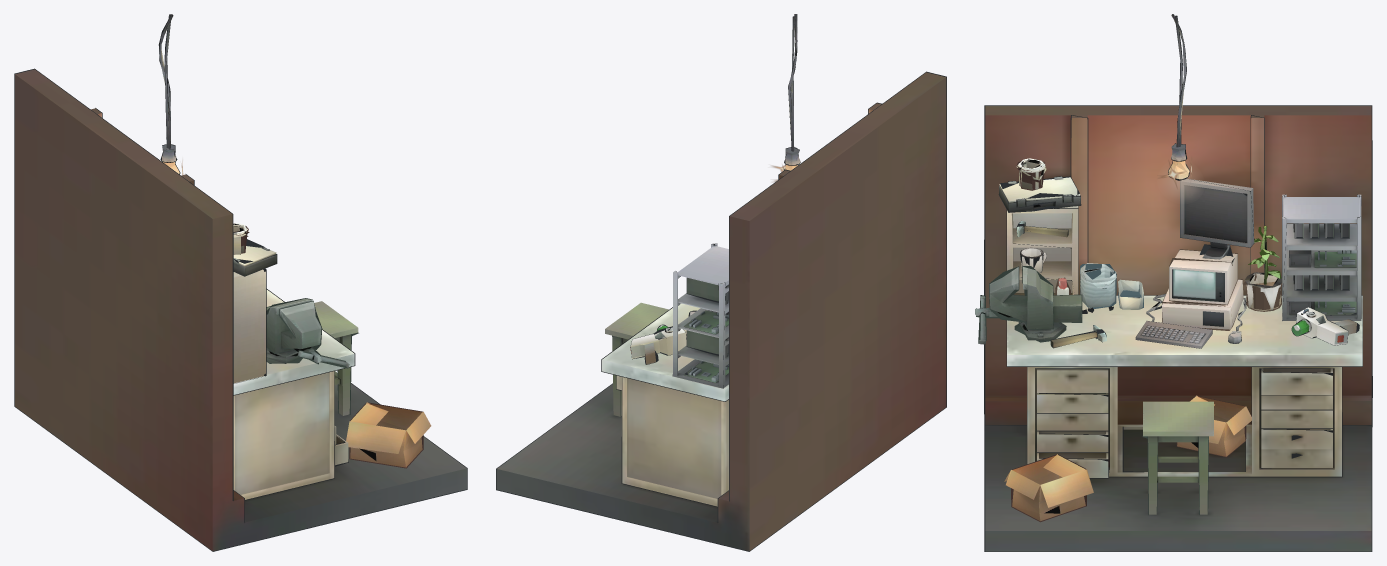
The model's file is bench.glb.
3 views of the same model, side by side, from view 1: azimuth 30°, elevation 25°; view 2: azimuth 150°, elevation 25°; view 3: azimuth 270°, elevation 25° (orthographic). The views are drawn at different scales.
Parts seen in each view (by area): view 1: Plane.011_Material.029_0, Plane_Material.005_0, Box -2 .001_Material.007_0, Plane.004_Material.006_0, Cube_Material.010_0, Plane.011_Line art.002_0, Plane.018_Material.026_0, BezierCurve.001_Material.027_0, Plane.005_Material.013_0, Cube_Line art.004_0; view 2: Plane.011_Material.029_0, Plane_Material.005_0, Plane.013_Material.021_0, Plane.011_Line art.002_0, Plane.018_Material.026_0, Plane.008_Material.016_0, Plane.014_Material.022_0, Plane.015_Material.024_0, BezierCurve.001_Material.027_0, Plane_Line art.001_0; view 3: Plane.011_Material.029_0, Plane_Material.005_0, Plane.013_Material.021_0, Plane.009_Material.017_0, Plane.018_Material.026_0, Plane.017_Material.020_0, Cube_Material.010_0, Plane.004_Material.006_0, Box -2 .001_Material.007_0, Plane.011_Line art.002_0, Plane_Line art.001_0, Box -2 _Material.007_0 (+17 smaller).
Part boxes in pixels (x1=…): Plane.011_Material.029_0: x1=15, y1=69, x2=466, y2=550; Plane_Material.005_0: x1=233, y1=289, x2=354, y2=499; Box -2 .001_Material.007_0: x1=346, y1=402, x2=431, y2=467; Plane.004_Material.006_0: x1=233, y1=269, x2=265, y2=383; Cube_Material.010_0: x1=266, y1=298, x2=349, y2=367; Plane.011_Line art.002_0: x1=14, y1=68, x2=467, y2=551; Plane.018_Material.026_0: x1=314, y1=301, x2=358, y2=415; BezierCurve.001_Material.027_0: x1=159, y1=14, x2=179, y2=173; Plane.005_Material.013_0: x1=233, y1=246, x2=276, y2=276; Cube_Line art.004_0: x1=266, y1=298, x2=348, y2=368; Plane.011_Material.029_0: x1=496, y1=72, x2=946, y2=551; Plane_Material.005_0: x1=602, y1=303, x2=728, y2=506; Plane.013_Material.021_0: x1=673, y1=243, x2=728, y2=388; Plane.011_Line art.002_0: x1=496, y1=71, x2=946, y2=551; Plane.018_Material.026_0: x1=605, y1=302, x2=668, y2=416; Plane.008_Material.016_0: x1=630, y1=325, x2=686, y2=364; Plane.014_Material.022_0: x1=687, y1=277, x2=728, y2=357; Plane.015_Material.024_0: x1=684, y1=310, x2=728, y2=382; BezierCurve.001_Material.027_0: x1=785, y1=14, x2=800, y2=170; Plane_Line art.001_0: x1=601, y1=307, x2=728, y2=506; Plane.011_Material.029_0: x1=985, y1=106, x2=1371, y2=551; Plane_Material.005_0: x1=1007, y1=295, x2=1362, y2=477; Plane.013_Material.021_0: x1=1282, y1=194, x2=1361, y2=320; Plane.009_Material.017_0: x1=1162, y1=250, x2=1243, y2=329; Plane.018_Material.026_0: x1=1143, y1=401, x2=1213, y2=514; Plane.017_Material.020_0: x1=1180, y1=179, x2=1254, y2=259; Cube_Material.010_0: x1=975, y1=267, x2=1081, y2=344; Plane.004_Material.006_0: x1=1007, y1=206, x2=1078, y2=295; Box -2 .001_Material.007_0: x1=1004, y1=454, x2=1093, y2=521; Plane.011_Line art.002_0: x1=984, y1=105, x2=1372, y2=551; Plane_Line art.001_0: x1=1006, y1=295, x2=1362, y2=478; Box -2 _Material.007_0: x1=1177, y1=395, x2=1251, y2=456.
Bounding box in the file's own units: 1.52 × 2.58 × 2.1.
Materials: 35 (28 with a texture image).
